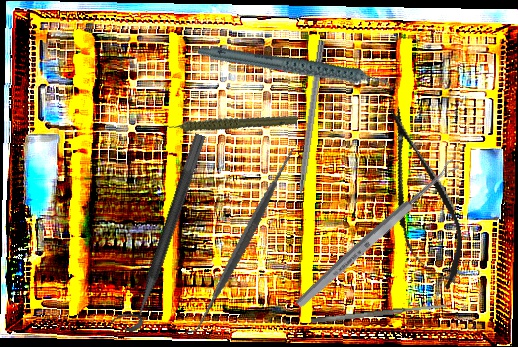Fixation Ring: (109, 126, 208, 336)
Handpiece: (196, 8, 396, 131), (161, 89, 299, 154)
Hook Surgical: (291, 39, 327, 222)
Micro Scissor: (364, 97, 479, 299)
Spatula Surgical: (150, 145, 339, 335), (311, 302, 446, 325)
Surgical Spoon: (293, 157, 461, 311)
